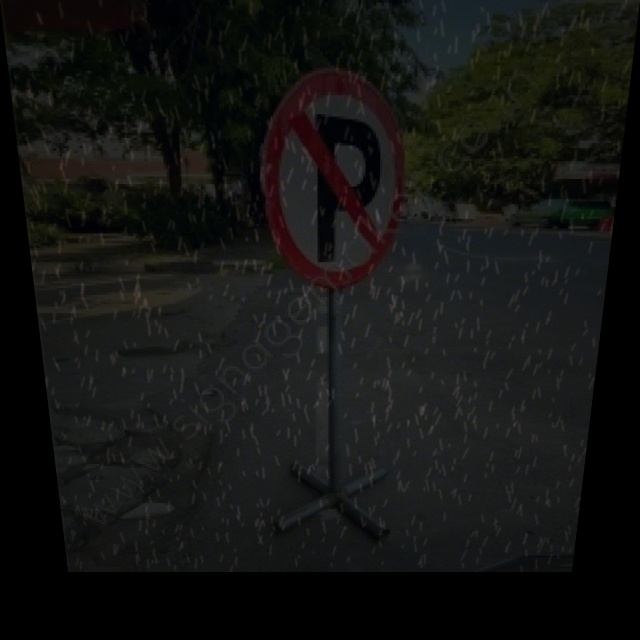No_Parking: (261, 66, 411, 289)
